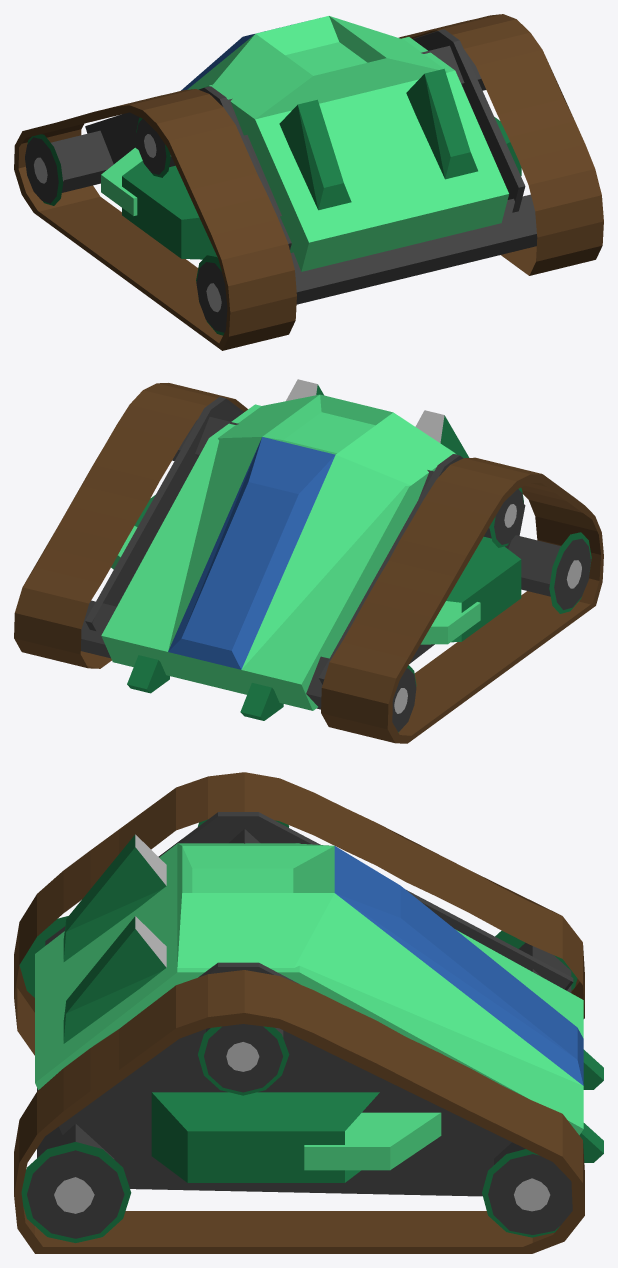
The model's file is catapira.FBX.
The picture shows the model from 3 angles, top to bottom: view 1: azimuth 30°, elevation 25°; view 2: azimuth 150°, elevation 25°; view 3: azimuth 270°, elevation 25°; orthographic projection. The views are drawn at different scales.
Visible parts, largest first — view 1: VIFS006, VIFS001, VIFS004, VIFS002, VIFS003, VIFS005; view 2: VIFS006, VIFS001, VIFS005, VIFS004, VIFS002, VIFS003; view 3: VIFS006, VIFS001, VIFS004, VIFS002, VIFS005, VIFS003.
Boxes of the visible parts, left/top/right/bottom form: VIFS006: left=14, top=14, right=603, bottom=350; VIFS001: left=101, top=16, right=508, bottom=271; VIFS004: left=25, top=29, right=537, bottom=332; VIFS002: left=27, top=68, right=521, bottom=335; VIFS003: left=34, top=134, right=221, bottom=312; VIFS005: left=181, top=24, right=291, bottom=90; VIFS006: left=14, top=383, right=603, bottom=743; VIFS001: left=101, top=394, right=480, bottom=710; VIFS005: left=168, top=437, right=335, bottom=669; VIFS004: left=81, top=397, right=590, bottom=731; VIFS002: left=127, top=384, right=591, bottom=732; VIFS003: left=286, top=379, right=581, bottom=713; VIFS006: left=14, top=772, right=584, bottom=1253; VIFS001: left=35, top=843, right=583, bottom=1170; VIFS004: left=27, top=812, right=573, bottom=1238; VIFS002: left=19, top=819, right=603, bottom=1243; VIFS005: left=334, top=846, right=583, bottom=1085; VIFS003: left=54, top=834, right=550, bottom=1213.
Size of the model in its own units: 0.84 by 0.426 by 0.87.
